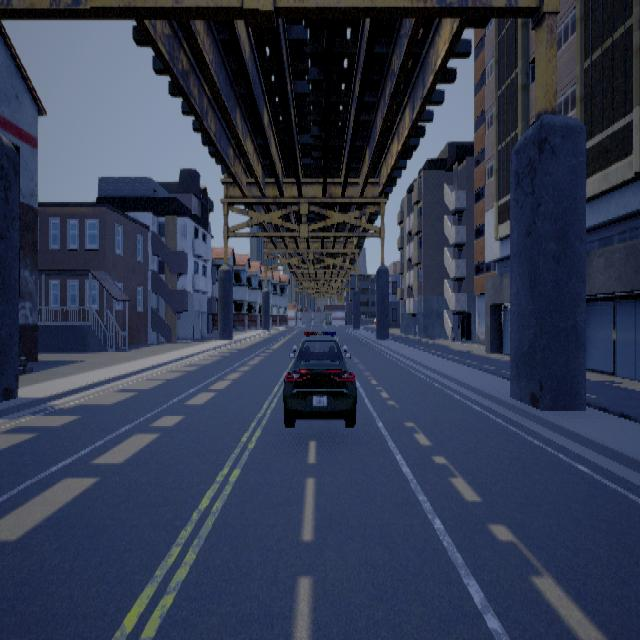vehicle: (282, 330, 356, 426)
